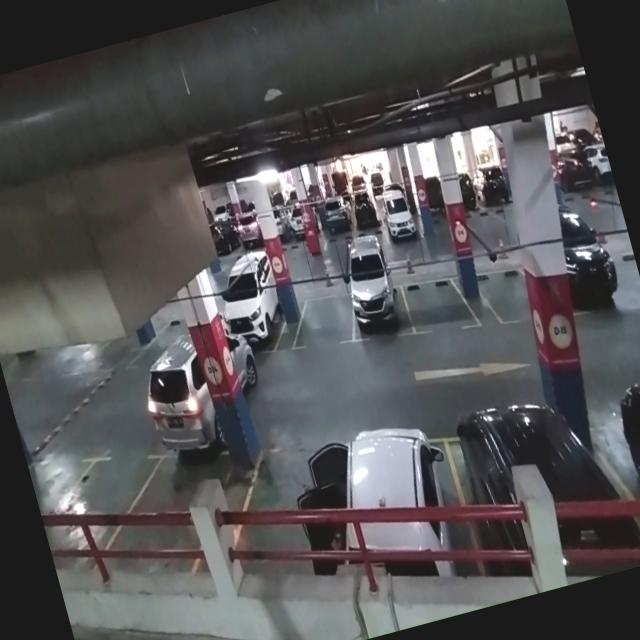car: (438, 391, 640, 600), (318, 413, 488, 598), (210, 258, 292, 364), (335, 248, 414, 346)
free: (222, 430, 357, 582), (30, 436, 170, 576), (399, 270, 480, 344), (283, 284, 362, 356), (473, 262, 538, 330)
